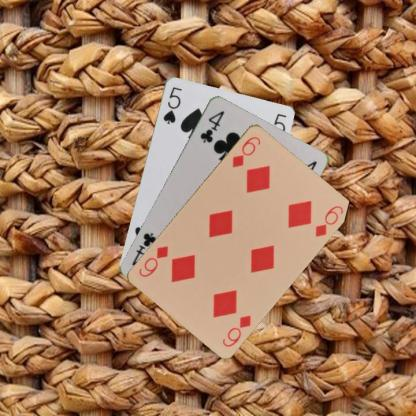4c: (197, 107, 226, 144)
5s: (160, 84, 183, 125)
6d: (229, 133, 262, 169), (219, 312, 252, 348)
